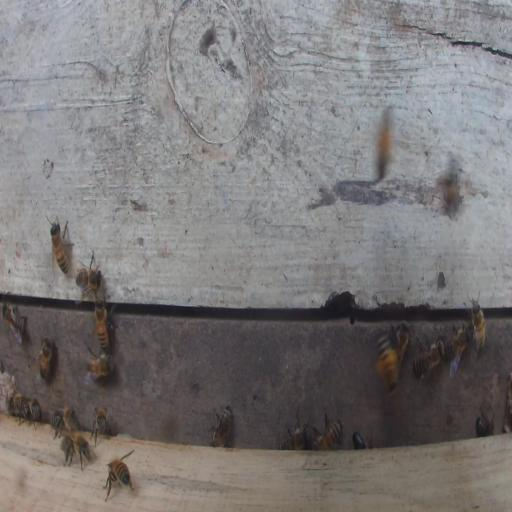bee: (104, 450, 135, 502), (413, 338, 444, 384), (75, 249, 102, 300), (375, 331, 398, 389), (94, 294, 116, 354), (62, 430, 92, 471), (449, 322, 470, 378), (2, 301, 27, 347), (314, 412, 343, 450), (210, 402, 233, 448), (470, 291, 486, 357), (281, 418, 315, 449), (49, 406, 78, 439), (33, 336, 54, 381), (50, 223, 68, 274), (86, 351, 114, 381), (91, 405, 110, 445), (394, 321, 410, 362), (475, 406, 494, 437), (9, 392, 29, 421), (352, 431, 367, 449), (30, 398, 40, 422)
